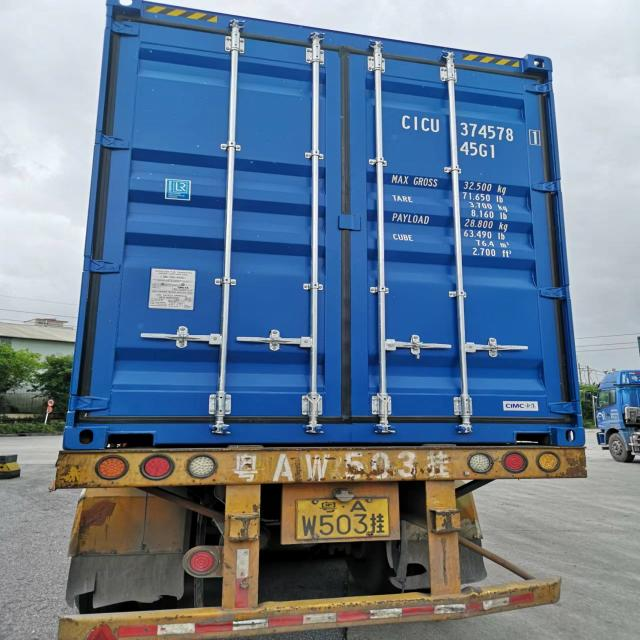seal: (408, 330, 426, 364)
